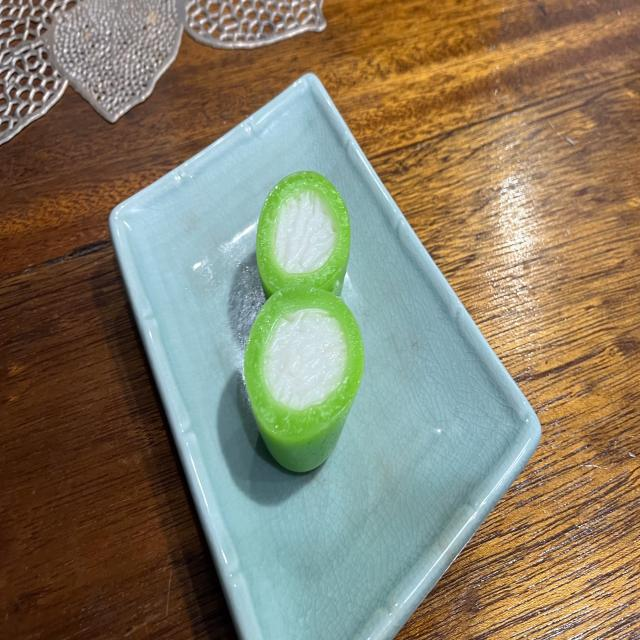nona-manis: (244, 288, 364, 475), (256, 171, 350, 298)
